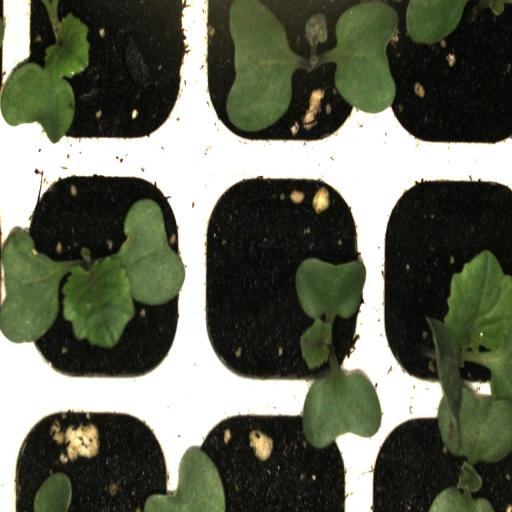seedling: (15, 157, 194, 394), (194, 159, 374, 393), (377, 157, 512, 395), (197, 0, 380, 150)
